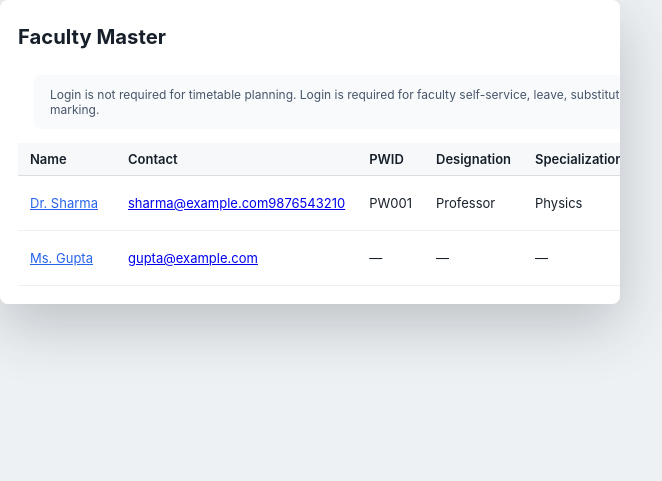
Test: FacultyMembersPanel › expands row and loads memberships
Click the button "Dr. Sharma" at (64, 203), box [30, 184, 98, 222]
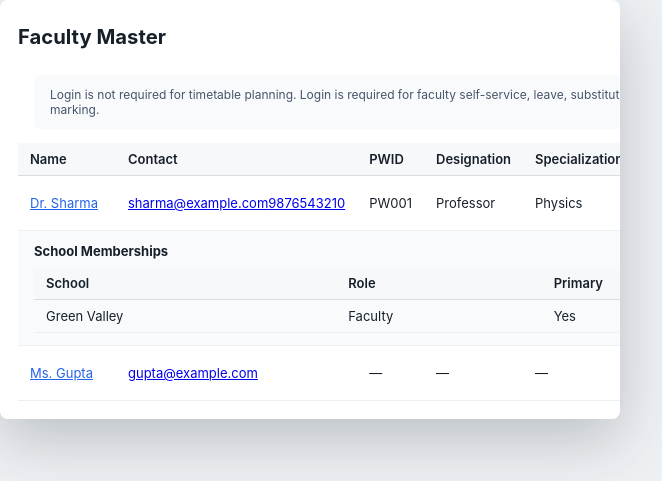
Now the text "Green Valley" is shown, box [34, 300, 336, 332]
